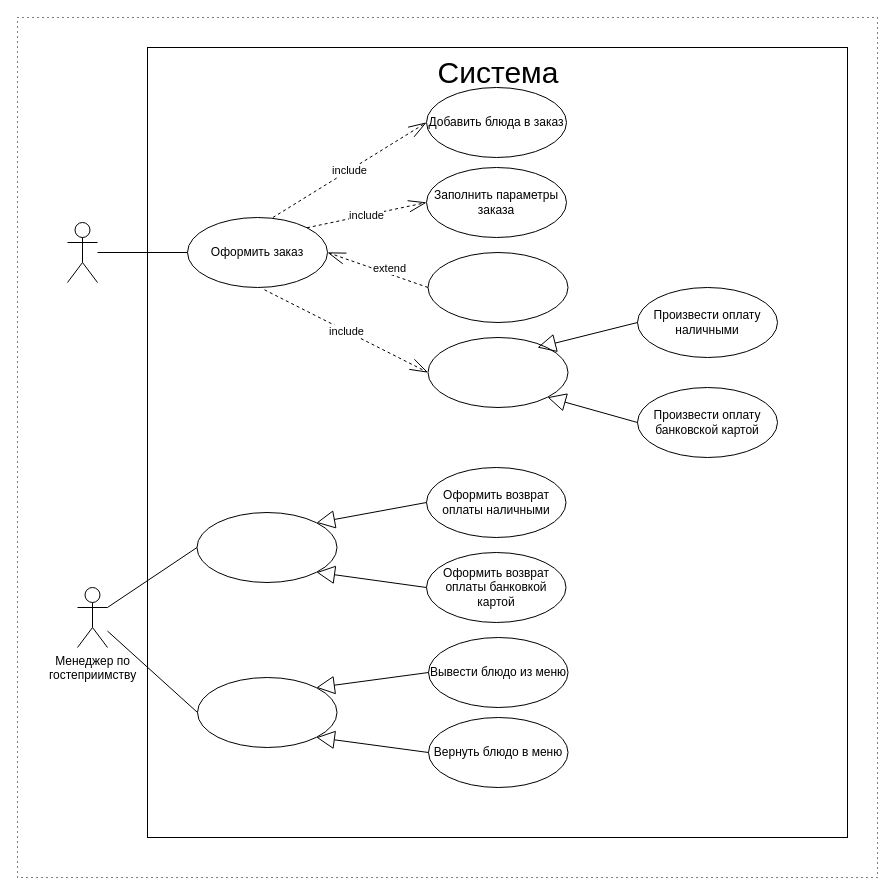
Image size: 895x895. Some labels were removed from this diagram. Each missing label, with the box of its shape:
Зарегистрироваться в программе лояльности: (427, 252, 568, 322)
Клиент: (66, 222, 98, 282)
Настроить состав меню: (196, 676, 337, 748)
Отменить заказ: (196, 512, 337, 582)
Произвести оплату: (427, 336, 568, 408)
